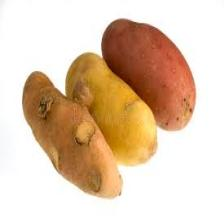Damaged potato: (16, 69, 124, 200)
Defected potato: (99, 17, 198, 134)
Diseased-fungal potato: (67, 48, 159, 165)
